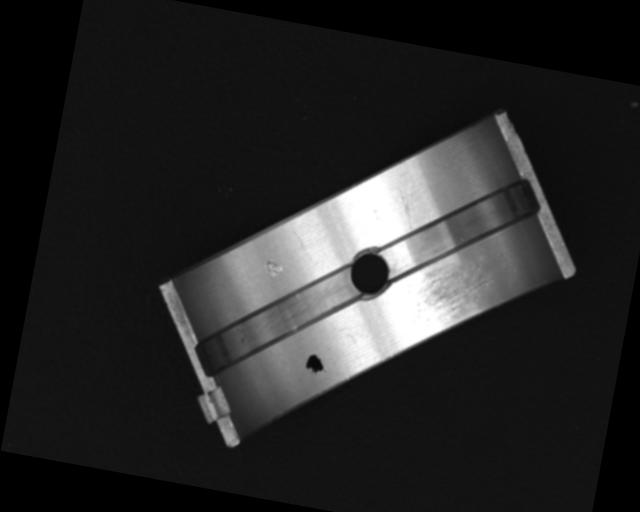blot: (303, 352, 327, 377)
bruise: (260, 257, 284, 279)
gap: (198, 248, 362, 395), (383, 155, 544, 292)
hole: (344, 246, 396, 300)
nick: (392, 181, 419, 233), (288, 231, 318, 263)
scratch: (403, 252, 499, 341)
